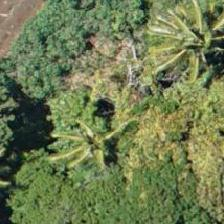coconut_tree: (62, 95, 152, 185), (59, 102, 149, 192), (148, 0, 223, 72)
